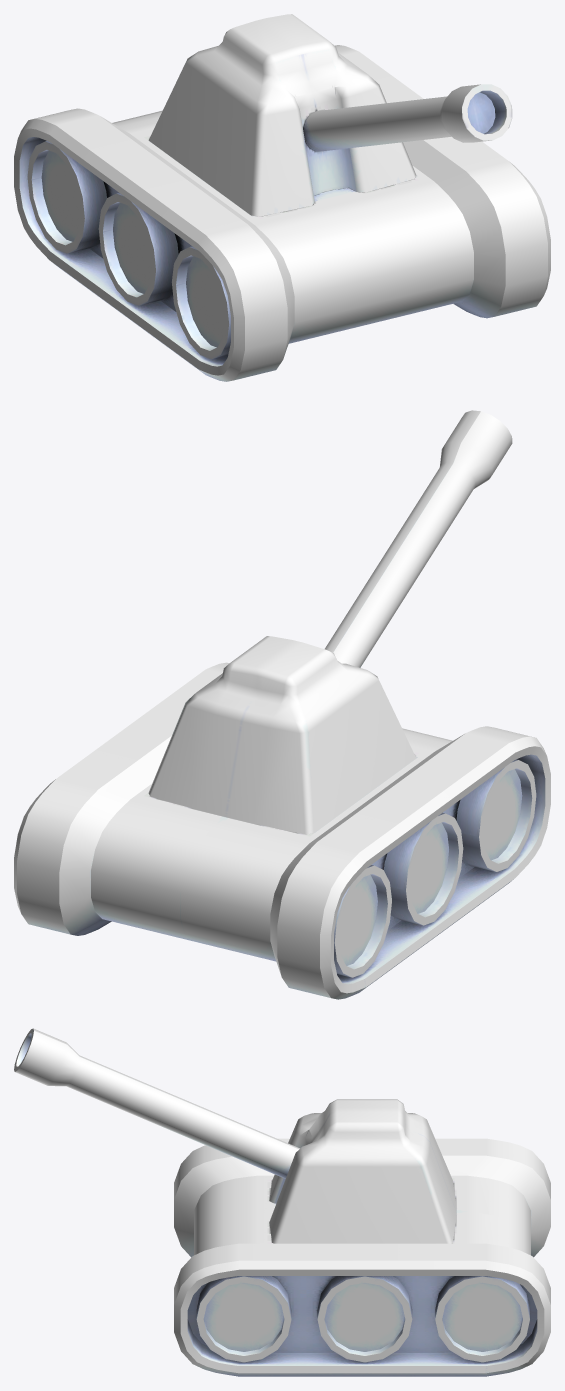
File: Tank.fbx
The picture shows the model from 3 angles, top to bottom: view 1: azimuth 30°, elevation 25°; view 2: azimuth 150°, elevation 25°; view 3: azimuth 270°, elevation 25°; orthographic projection. The views are drawn at different scales.
Parts seen in each view (by area): view 1: Tank; view 2: Tank; view 3: Tank.
Part boxes in pixels (x1,y1,x2,y2): Tank: (14, 14, 550, 381); Tank: (14, 410, 550, 999); Tank: (14, 1028, 550, 1376).
Size of the model in its own units: 200 by 208 by 355.
